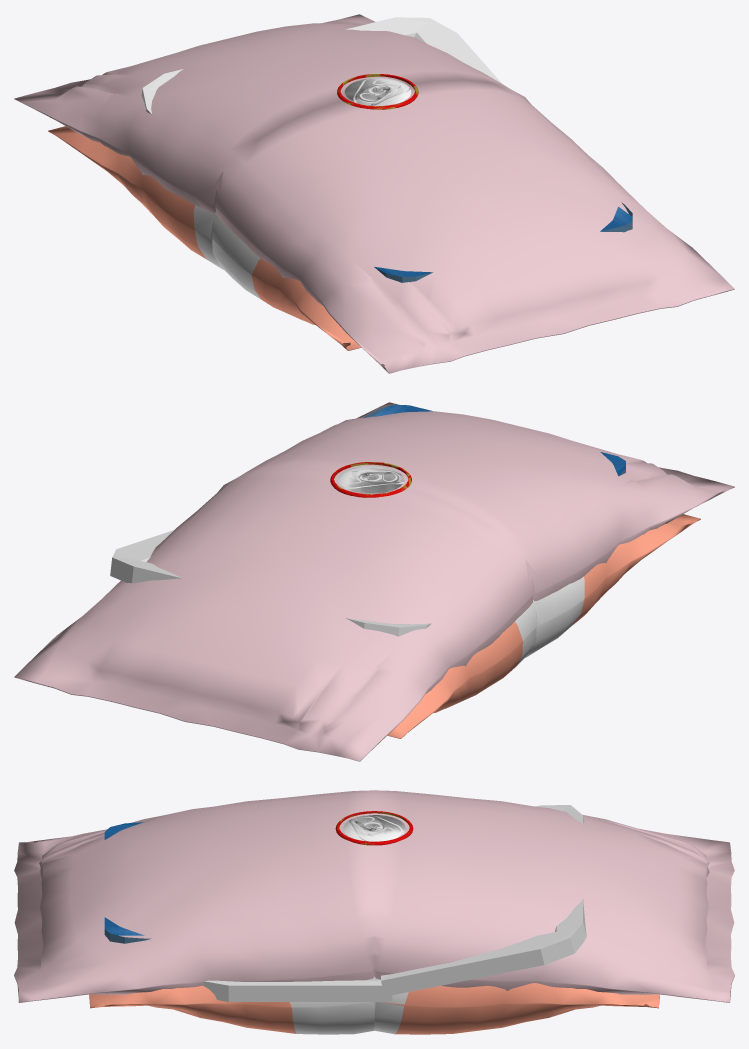
Rendered from Int Objects.fbx.
The picture shows the model from 3 angles, top to bottom: view 1: azimuth 30°, elevation 25°; view 2: azimuth 150°, elevation 25°; view 3: azimuth 270°, elevation 25°; orthographic projection. The views are drawn at different scales.
Parts seen in each view (by area): view 1: chips, cekirdek, Cube.011, Cylinder.001, Cube.012, Cylinder.002; view 2: chips, cekirdek, Cube.011, Cylinder.001, Cube.012, Cylinder.002; view 3: chips, cekirdek, Cube.011, Cylinder.001, Cube.012.
Boxes of the visible parts, bbox=[...] form: chips: bbox=[14, 14, 734, 373]; cekirdek: bbox=[48, 126, 361, 350]; Cube.011: bbox=[141, 17, 501, 114]; Cylinder.001: bbox=[337, 74, 418, 109]; Cube.012: bbox=[374, 202, 632, 282]; Cylinder.002: bbox=[337, 74, 418, 109]; chips: bbox=[14, 402, 734, 761]; cekirdek: bbox=[387, 514, 700, 738]; Cube.011: bbox=[110, 530, 431, 636]; Cylinder.001: bbox=[330, 462, 411, 497]; Cube.012: bbox=[363, 404, 625, 476]; Cylinder.002: bbox=[334, 462, 411, 496]; chips: bbox=[14, 790, 734, 1002]; cekirdek: bbox=[89, 976, 659, 1034]; Cube.011: bbox=[202, 805, 586, 1001]; Cylinder.001: bbox=[335, 811, 413, 845]; Cube.012: bbox=[104, 822, 151, 943].
Bounding box in the file's own units: 228 × 108 × 424.
